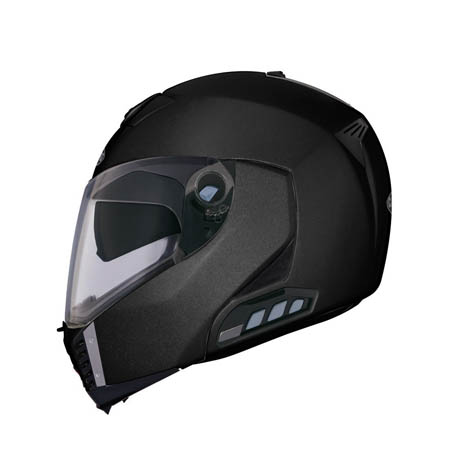helmet: (91, 97, 390, 332)
